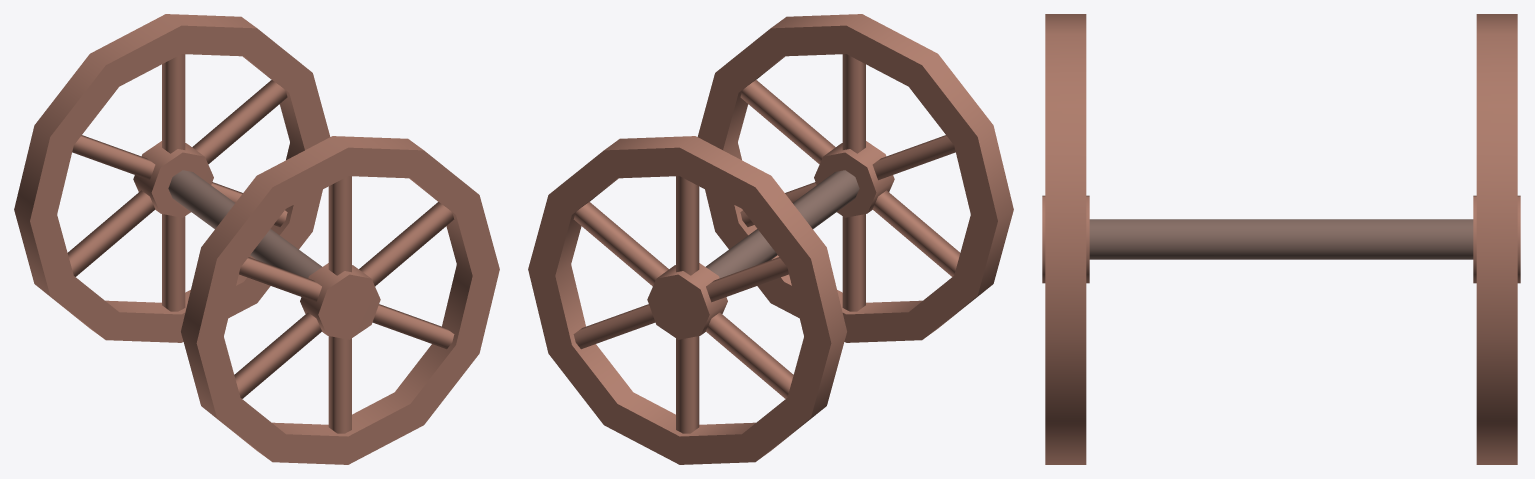
The model's file is n4_crane_wheel_001_lev4.glb.
The picture shows the model from 3 angles, left to right: view 1: azimuth 30°, elevation 25°; view 2: azimuth 150°, elevation 25°; view 3: azimuth 270°, elevation 25°; orthographic projection. The views are drawn at different scales.
Parts seen in each view (by area): view 1: n4_crane_wheel_001_lev4; view 2: n4_crane_wheel_001_lev4; view 3: n4_crane_wheel_001_lev4.
Boxes of the visible parts, <box> form: n4_crane_wheel_001_lev4: <box>14,14,499,464</box>; n4_crane_wheel_001_lev4: <box>528,14,1013,464</box>; n4_crane_wheel_001_lev4: <box>1042,14,1520,464</box>.
Size of the model in its own units: 0.9641 by 0.9641 by 1.02.
1 material, 1 textured.
